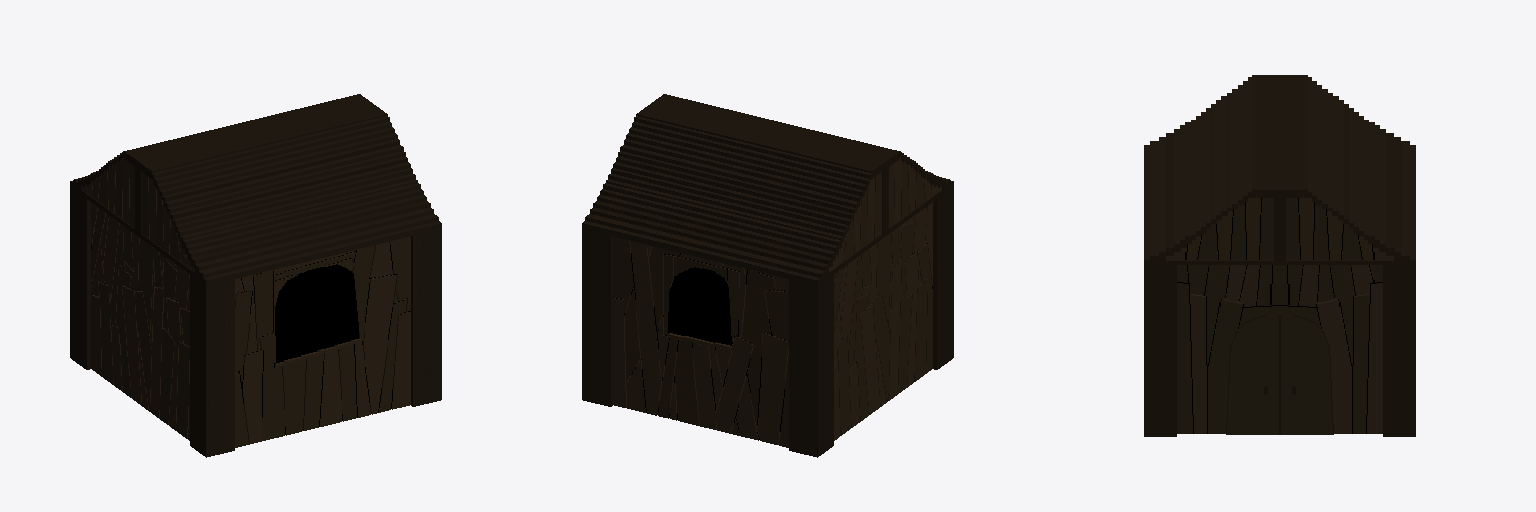
3 views of the same model, side by side, from view 1: azimuth 30°, elevation 25°; view 2: azimuth 150°, elevation 25°; view 3: azimuth 270°, elevation 25° (orthographic).
Parts seen in each view (by area): view 1: object 1; view 2: object 1; view 3: object 1.
Boxes of the visible parts, x1,y1,x2,y2 form: object 1: [70, 94, 441, 457]; object 1: [582, 94, 953, 457]; object 1: [1144, 75, 1415, 436].
Bounding box in the file's own units: 25.6 × 25.6 × 25.6.
Materials: 1 (1 with a texture image).